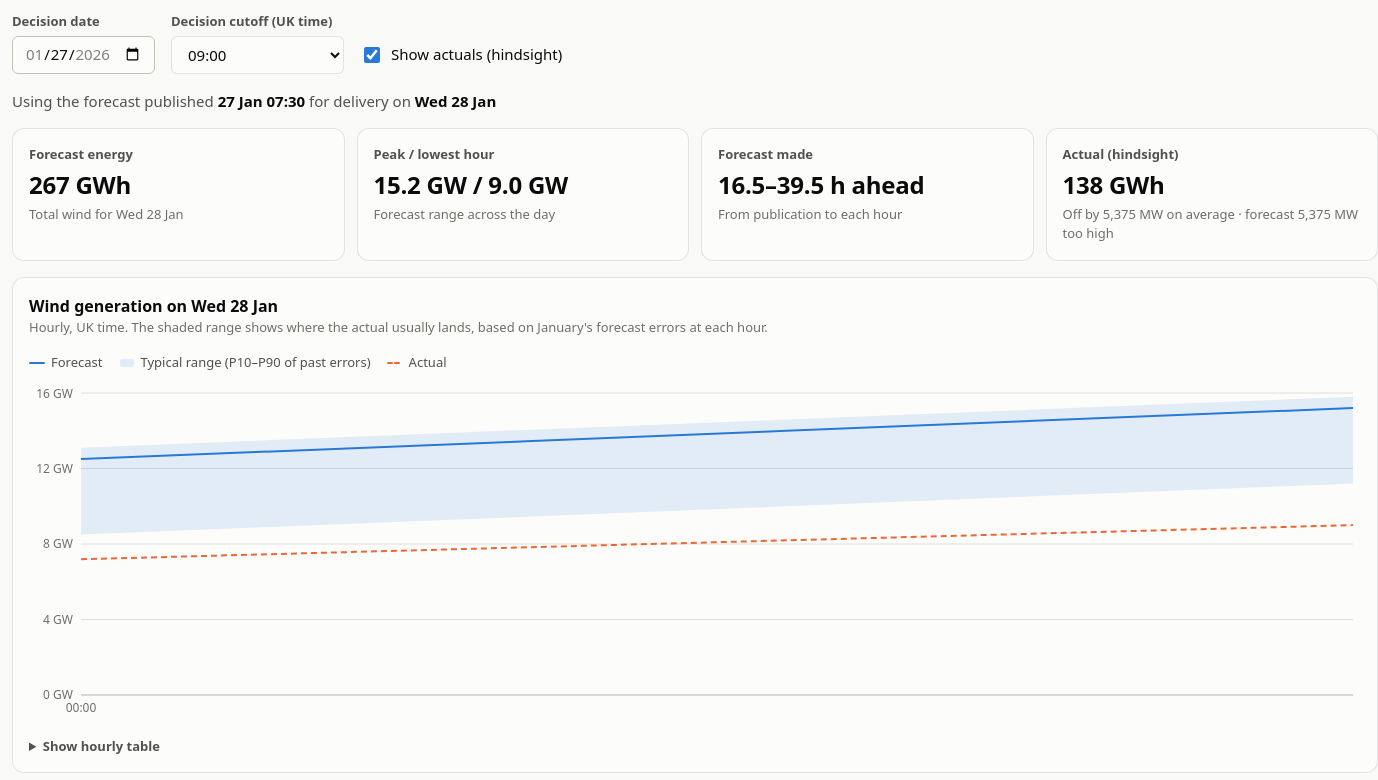
Test: DayAheadPage › hides the actuals when the toggle is off, to show what the trader saw
Expected: the text "138 GWh" is shown, [1062,168,1165,200]
Click the checkbox labelled "Show actuals (hindsight)": (372, 54) [364,46,380,62]
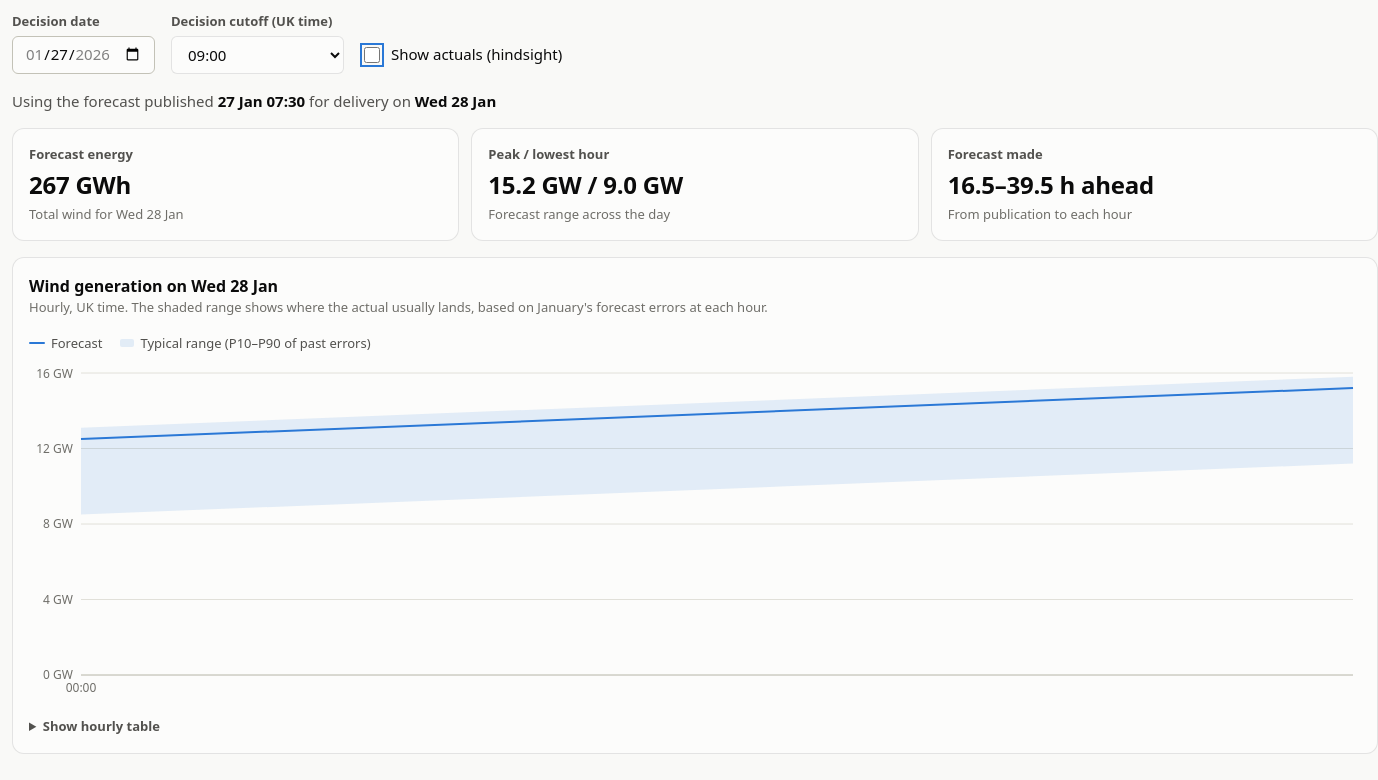
Expected: the text "267 GWh" is shown, [29,168,131,200]
Now the text "138 GWh" is gone
Now the text "Actual (hindsight)" is gone
